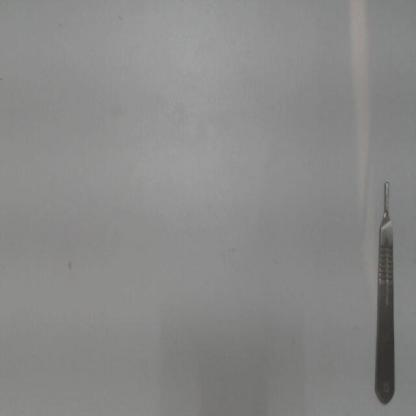No.3 BP Handle: (372, 176, 396, 404)
